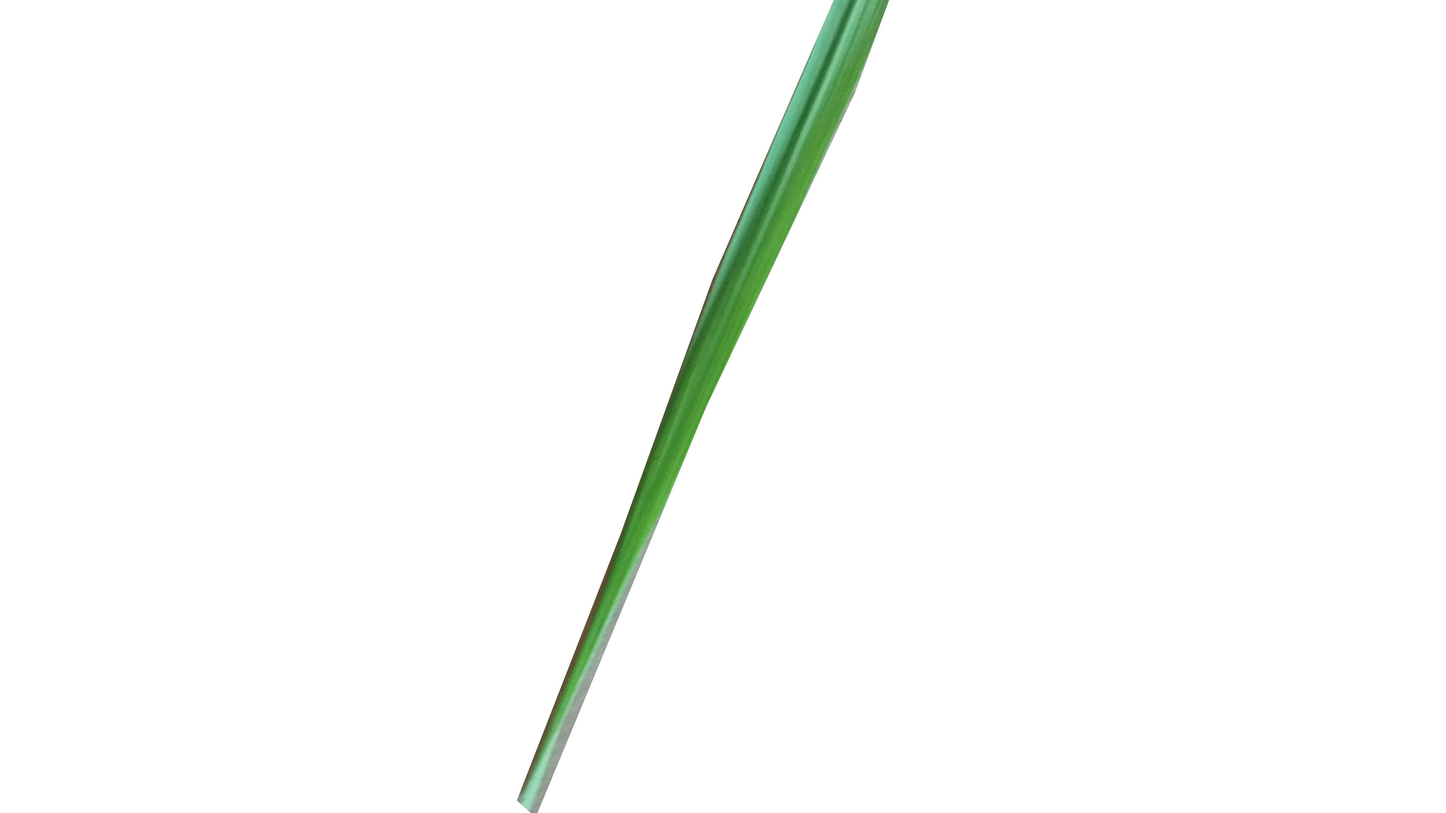Healthy: (519, 0, 897, 813)
